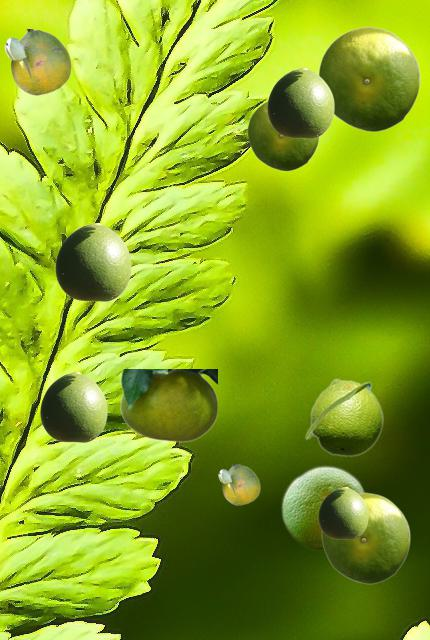dalandan: (318, 26, 419, 131), (321, 492, 409, 583), (280, 464, 365, 549), (120, 369, 216, 441), (304, 378, 383, 456), (55, 223, 130, 300), (247, 101, 318, 170), (40, 372, 106, 441), (267, 68, 333, 137), (4, 29, 70, 94), (318, 487, 367, 538), (218, 464, 259, 504)
